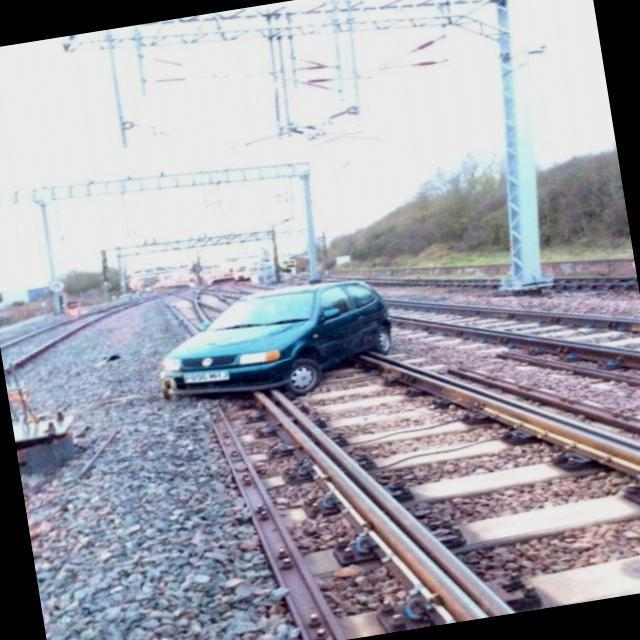rail: (153, 286, 640, 640), (219, 281, 640, 389), (1, 291, 159, 386)
